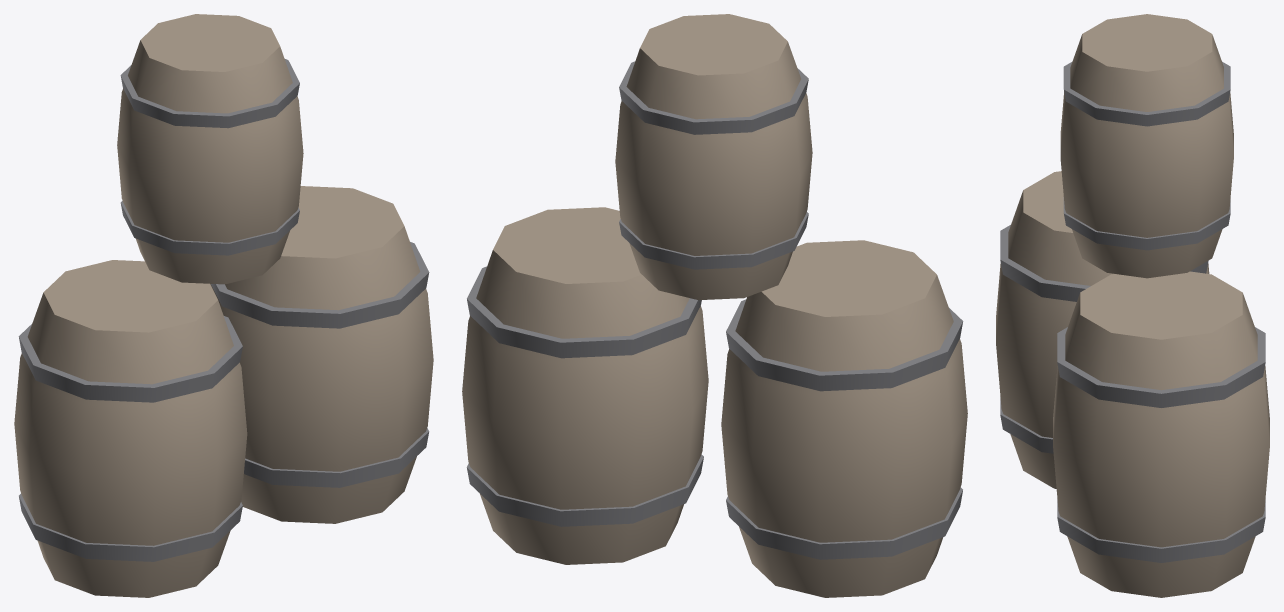
Rendered from barrel.gltf.
3 views of the same model, side by side, from view 1: azimuth 30°, elevation 25°; view 2: azimuth 150°, elevation 25°; view 3: azimuth 270°, elevation 25° (orthographic). The views are drawn at different scales.
Visible parts, largest first — view 1: Body; view 2: Body; view 3: Body.
Part boxes in pixels (bbox=[...]): Body: bbox=[14, 14, 433, 597]; Body: bbox=[462, 14, 967, 597]; Body: bbox=[996, 14, 1269, 597].
Bounding box in the file's own units: 1.65 × 1.8 × 0.9608.
